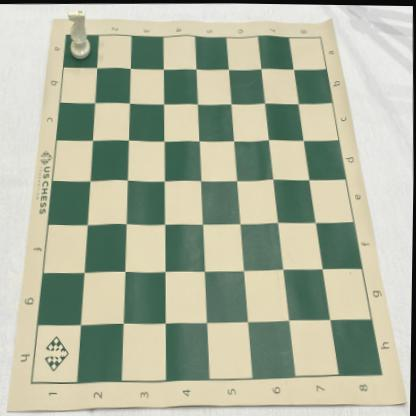white-knight: (66, 5, 92, 60)
